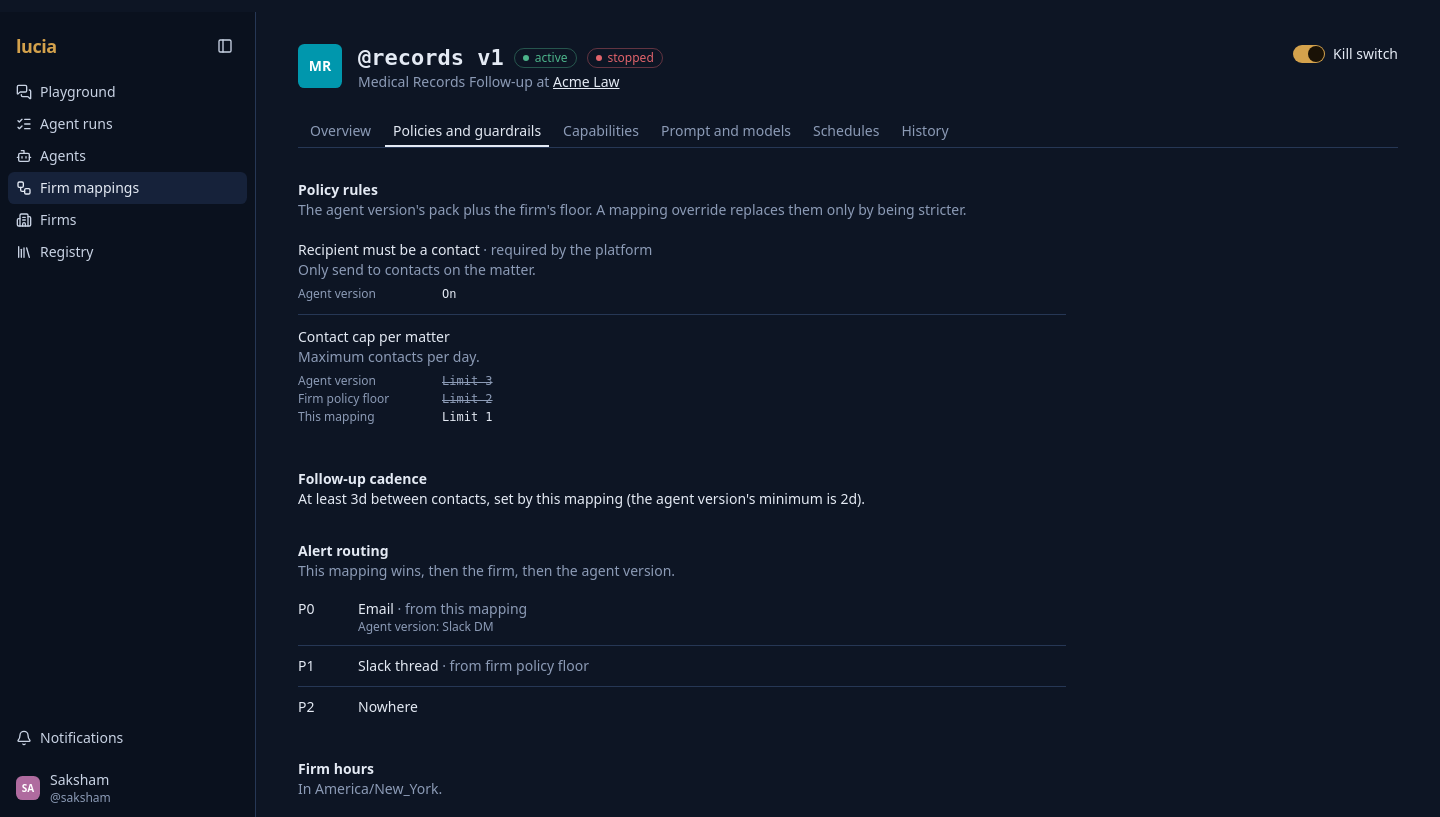
Test: mapping detail › policies: what applies and where each setting comes from
Check: the list item "This mapping" shows "Limit 1", box x1=442 y1=410 x2=493 y2=424
Check: the text "· required by the platform" is shown, box x1=480 y1=240 x2=652 y2=258
What coordinates should you click on to do the following:
click the tab "Capabilities"
I would click on:
 (601, 131)
Its box is x1=554 y1=119 x2=648 y2=143.
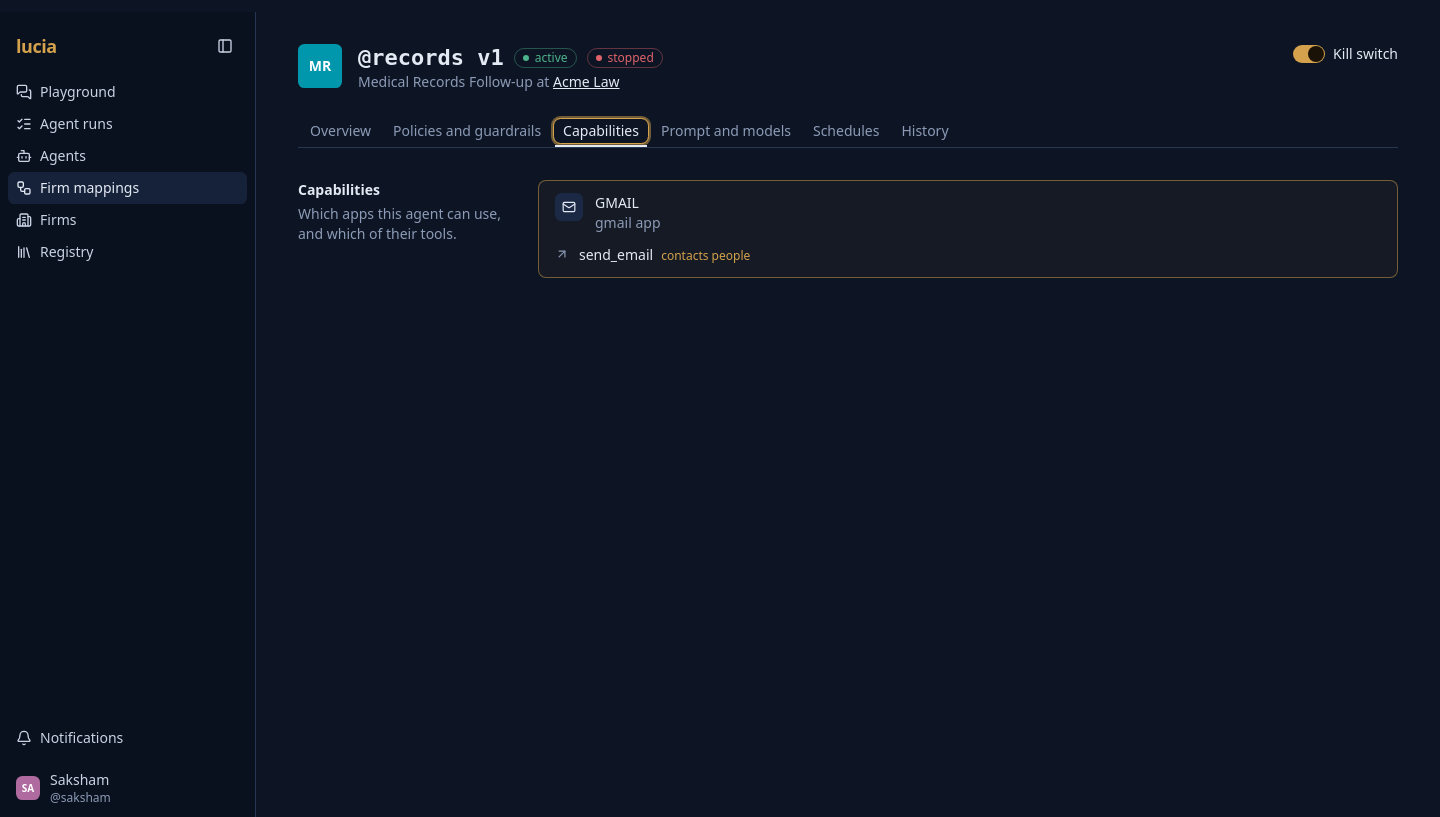
Check: the text "send_email" is shown, box x1=579 y1=244 x2=653 y2=264
